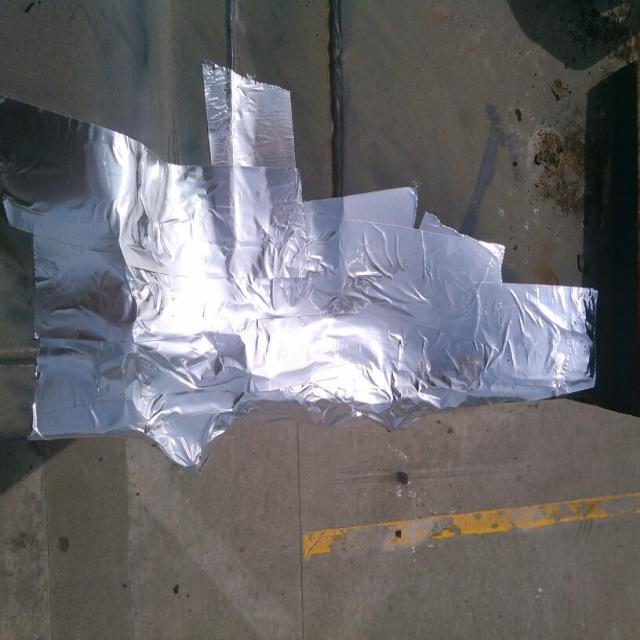rust: (526, 118, 587, 229)
